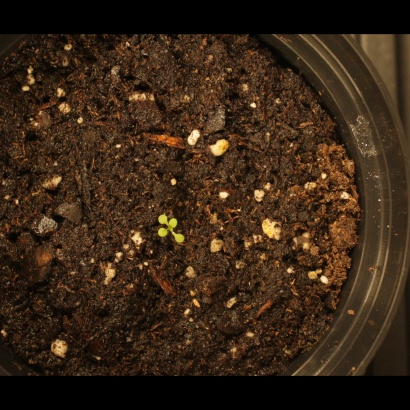leaf: (176, 231, 199, 254), (146, 203, 169, 226), (170, 208, 193, 231), (147, 225, 170, 248)
